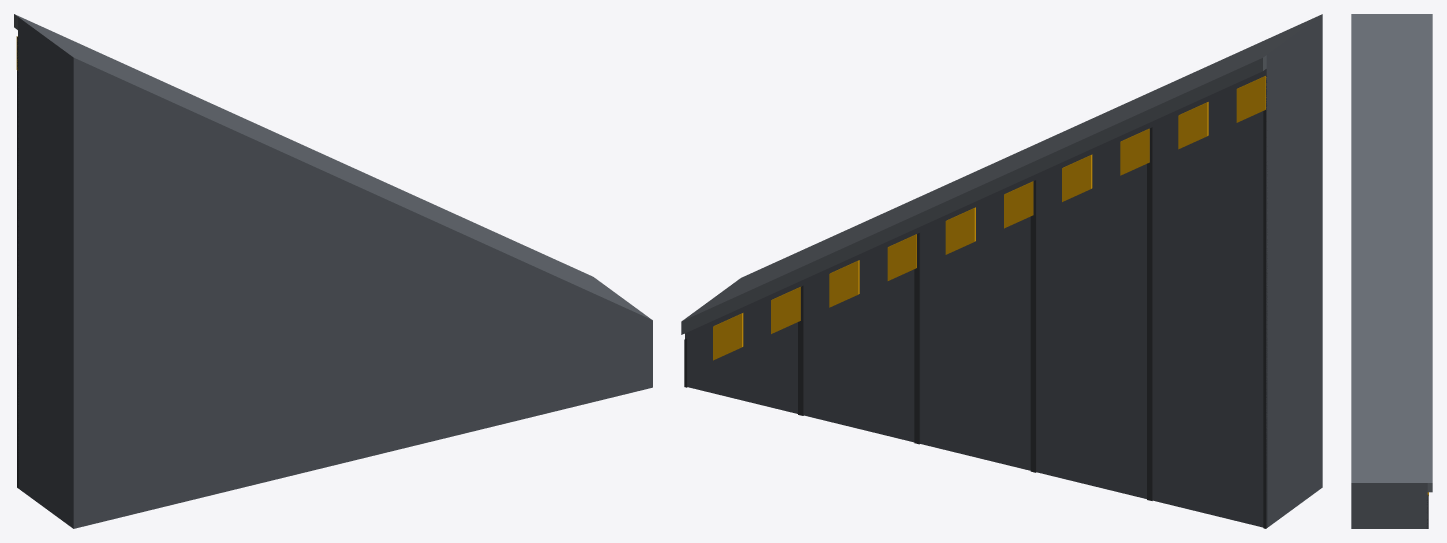
The picture shows the model from 3 angles, left to right: view 1: azimuth 30°, elevation 25°; view 2: azimuth 150°, elevation 25°; view 3: azimuth 270°, elevation 25°; orthographic projection. The views are drawn at different scales.
Parts seen in each view (by area): view 1: b3wf; view 2: b3wf; view 3: b3wf.
Boxes of the visible parts, x1,y1,x2,y2 form: b3wf: [14, 14, 652, 528]; b3wf: [681, 14, 1322, 528]; b3wf: [1351, 14, 1432, 528].
Size of the model in its own units: 9 by 7 by 1.6.
